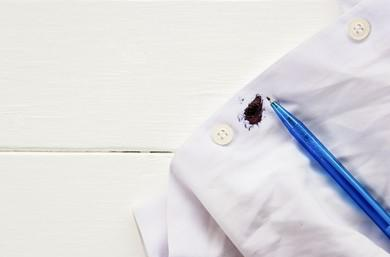gun: (241, 89, 267, 128)
